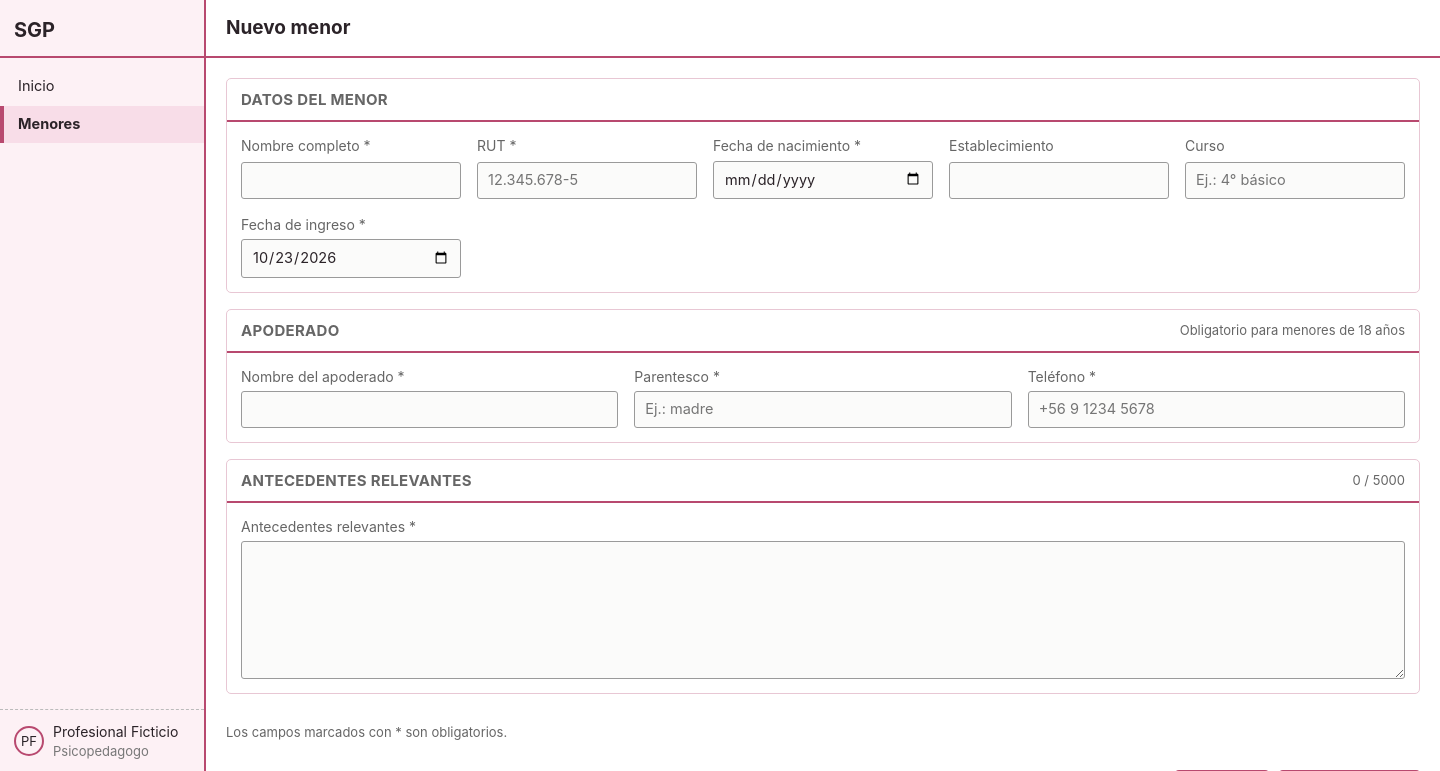
Test: RUT con formato automático › formatea 212914541 como 21.291.454-1 mientras se escribe
This screenshot has width=1440, height=771.
In the field labelled "RUT *": (587, 180) [477,162,697,199], type "21291454"
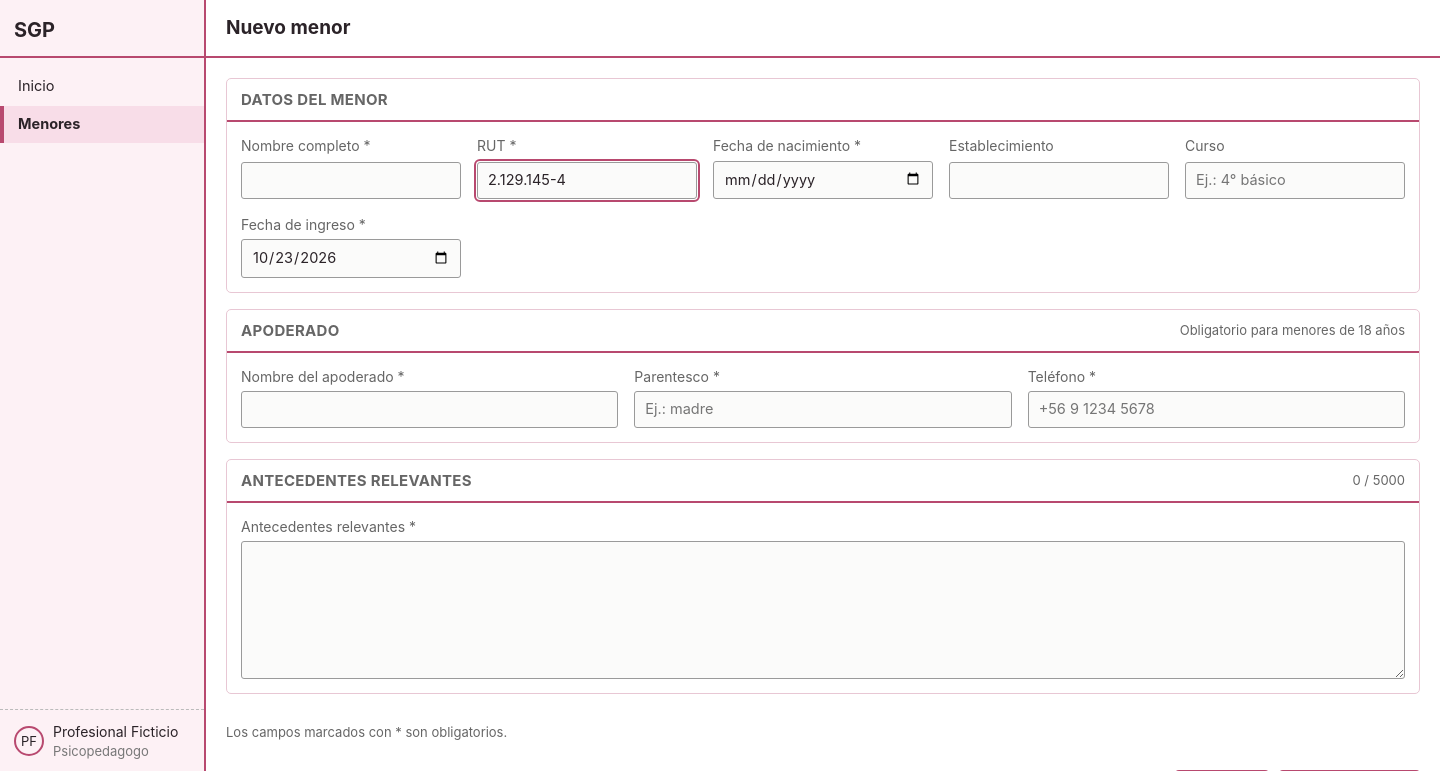
Expected: the field labelled "RUT *" holds "2.129.145-4"
In the field labelled "RUT *": (587, 180) [477,162,697,199], type "1"
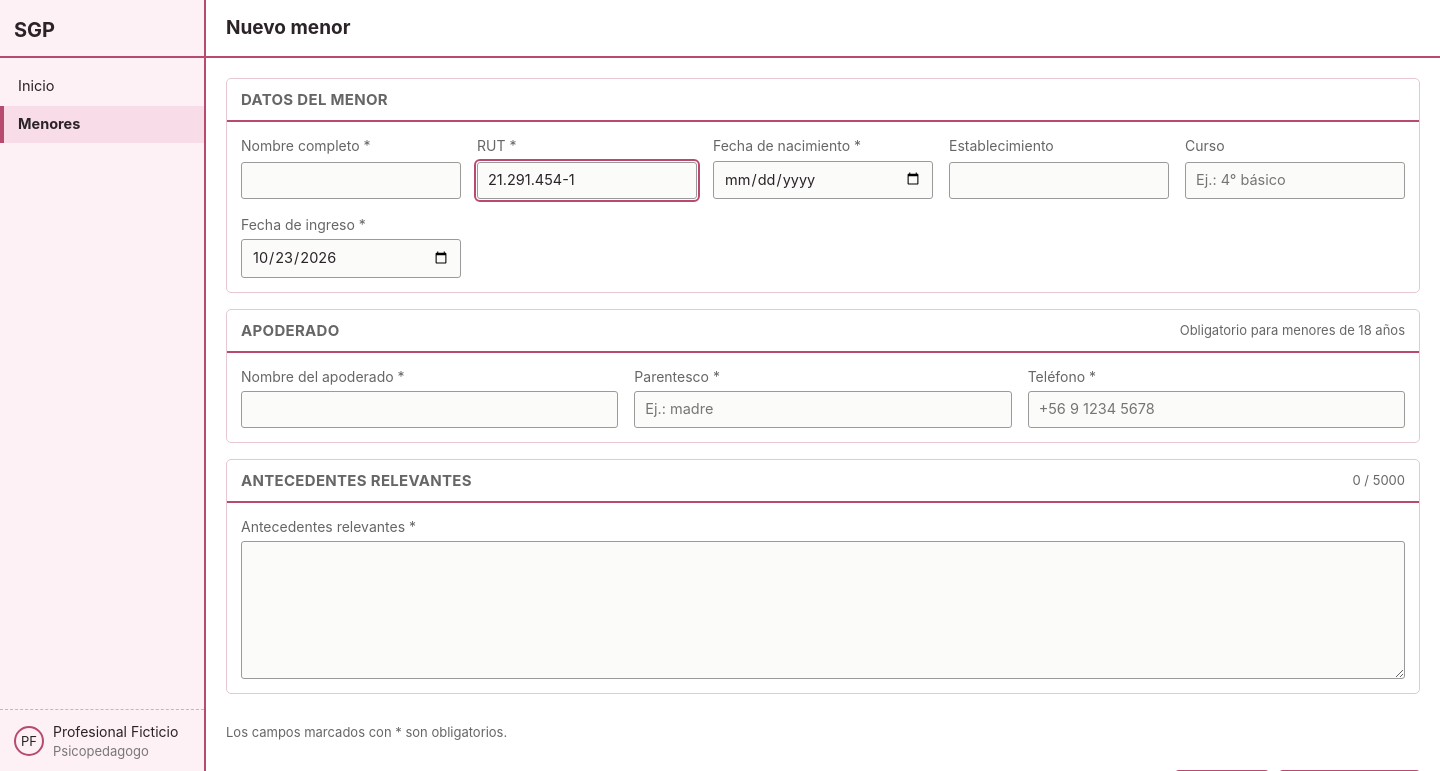
Expected: the field labelled "RUT *" holds "21.291.454-1", [477,162,697,199]
